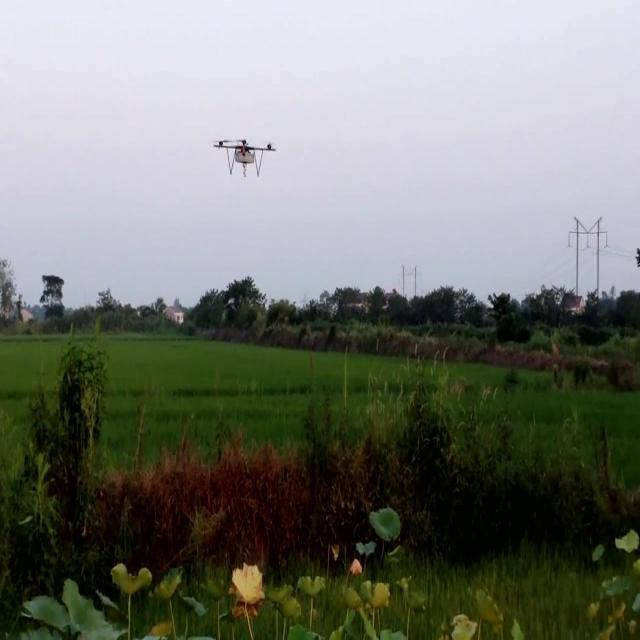drone: (211, 132, 277, 178)
